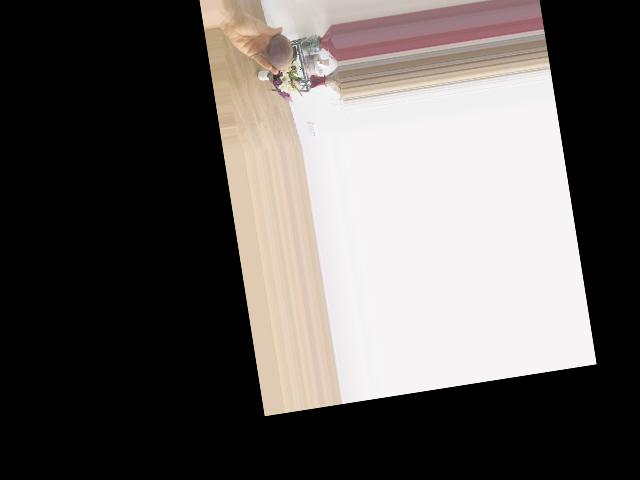beet: (246, 32, 299, 75)
